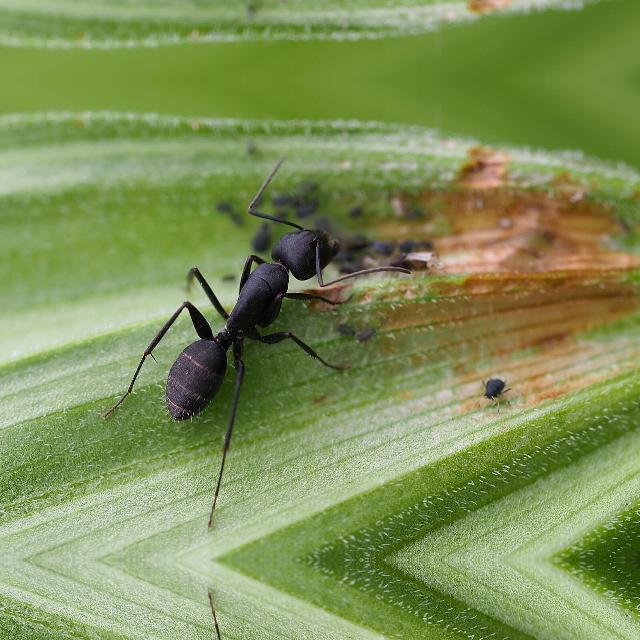Camponotus: (148, 185, 344, 443)
